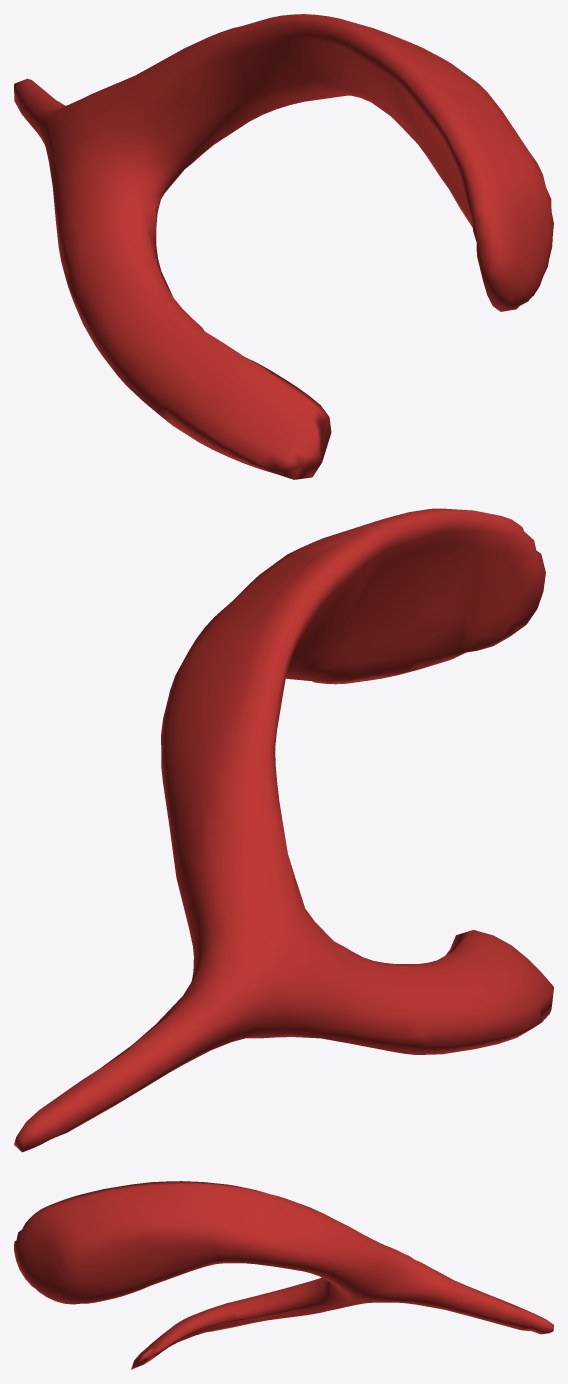
The model's file is nervoso-lateral-ventricle-r.glb.
3 renders of one model, top to bottom at view 1: azimuth 30°, elevation 25°; view 2: azimuth 150°, elevation 25°; view 3: azimuth 270°, elevation 25°, orthographic. The views are drawn at different scales.
Visible parts, largest first — view 1: Lateral ventricle.r; view 2: Lateral ventricle.r; view 3: Lateral ventricle.r.
Boxes of the visible parts, x1,y1,x2,y2 form: Lateral ventricle.r: (14, 14, 553, 479); Lateral ventricle.r: (14, 508, 553, 1152); Lateral ventricle.r: (14, 1181, 553, 1369).
Bounding box in the file's own units: 0.0374 × 0.0471 × 0.1059.
